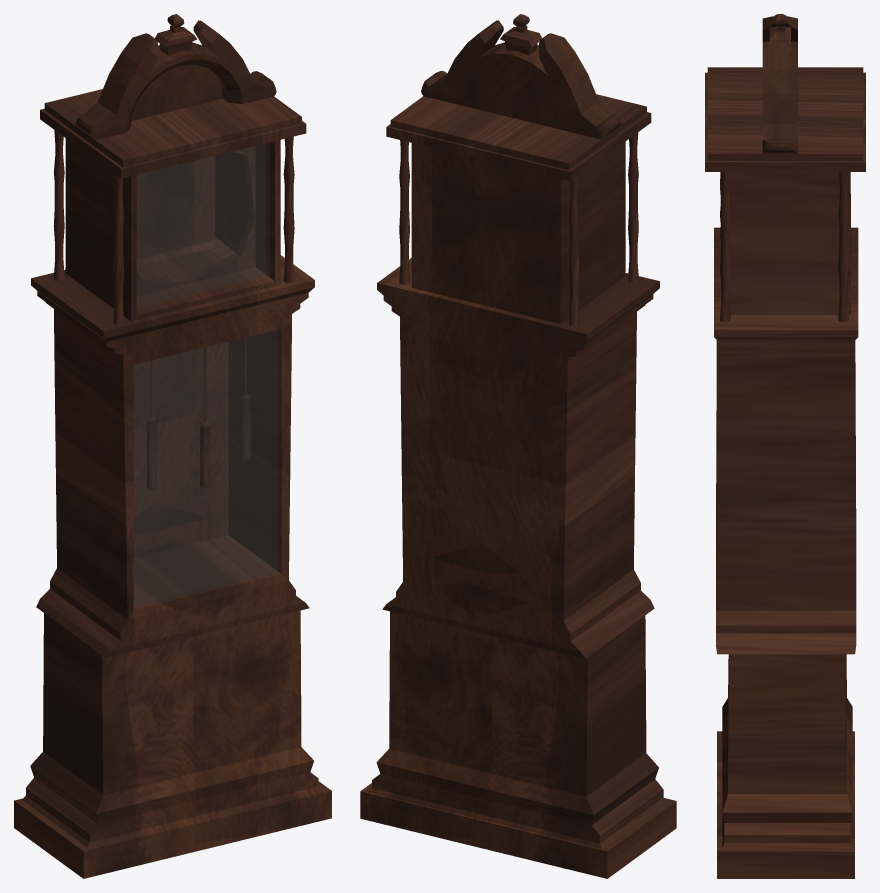
The model's file is Clock-New-shell.fbx.
3 views of the same model, side by side, from view 1: azimuth 30°, elevation 25°; view 2: azimuth 150°, elevation 25°; view 3: azimuth 270°, elevation 25° (orthographic).
Parts seen in each view (by area): view 1: pasted__pasted__pCylinder8, pCube2, pasted__pasted__pCube2; view 2: pasted__pasted__pCylinder8; view 3: pasted__pasted__pCylinder8.
Boxes of the visible parts, bbox=[...] form: pasted__pasted__pCylinder8: bbox=[14, 14, 331, 878]; pCube2: bbox=[134, 329, 280, 608]; pasted__pasted__pCube2: bbox=[137, 143, 269, 308]; pasted__pasted__pCylinder8: bbox=[360, 14, 676, 878]; pasted__pasted__pCylinder8: bbox=[705, 14, 865, 878].
Bounding box in the file's own units: 141 × 439 × 79.55.
